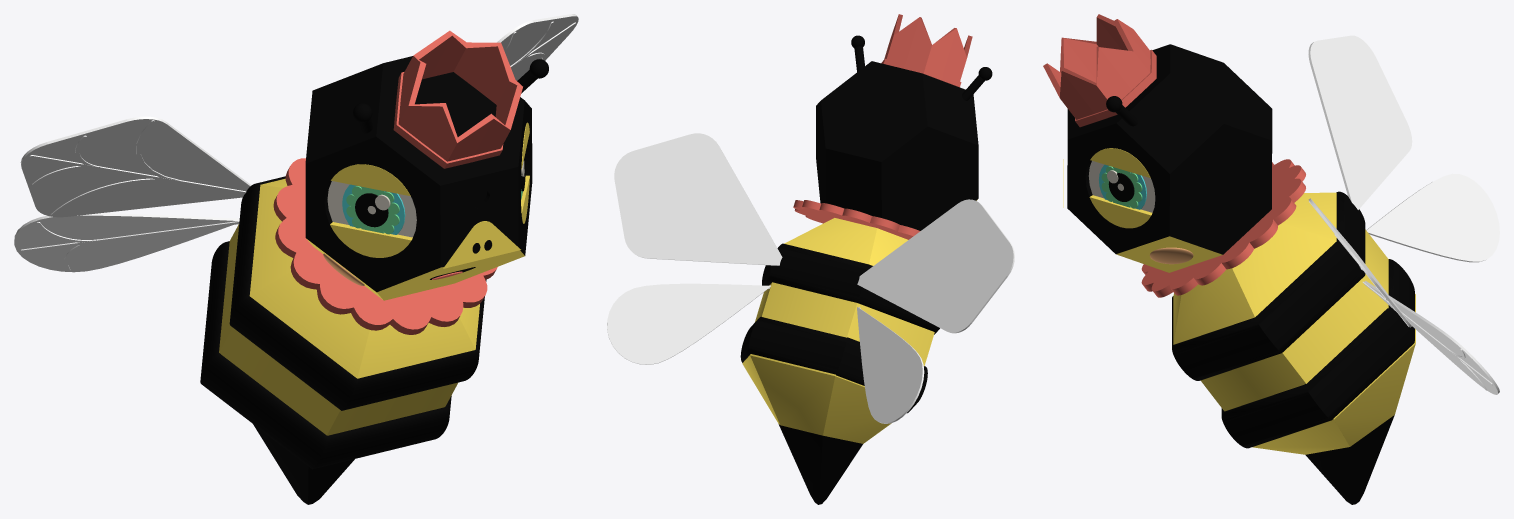
Rendered from main_bee_.gltf.
3 views of the same model, side by side, from view 1: azimuth 30°, elevation 25°; view 2: azimuth 150°, elevation 25°; view 3: azimuth 270°, elevation 25° (orthographic). The views are drawn at different scales.
Parts seen in each view (by area): view 1: Hedra001, Spindle001, Shape032, Line44386, Line44386.001, Star002, Star001, Shape034, Shape010, Shape026, Shape019, Shape036 (+5 smaller); view 2: Hedra001, Spindle001, Shape026, Shape032, Shape028, Shape034, Line44386.001, Line44386, Star002, Star001; view 3: Hedra001, Spindle001, Shape032, Line44386, Line44386.001, Shape034, Star002, Star001, Shape002, Shape028, Shape026, Shape003 (+2 smaller).
Boxes of the visible parts, x1,y1,x2,y2 form: Hedra001: (305, 56, 532, 300); Spindle001: (219, 178, 479, 504); Shape032: (20, 116, 251, 217); Line44386: (229, 176, 486, 410); Line44386.001: (200, 241, 451, 469); Star002: (393, 30, 522, 168); Star001: (273, 158, 497, 334); Shape034: (14, 213, 239, 272); Shape010: (330, 164, 412, 257); Shape026: (497, 14, 578, 80); Shape019: (443, 221, 520, 268); Shape036: (31, 120, 181, 216); Hedra001: (816, 61, 978, 230); Spindle001: (742, 218, 934, 504); Shape026: (614, 133, 782, 265); Shape032: (857, 199, 1014, 333); Shape028: (607, 283, 770, 364); Shape034: (857, 307, 924, 423); Line44386.001: (740, 316, 927, 413); Line44386: (762, 243, 939, 334); Star002: (881, 14, 972, 87); Star001: (793, 200, 920, 239); Hedra001: (1067, 44, 1272, 272); Spindle001: (1173, 192, 1415, 504); Shape032: (1308, 35, 1412, 209); Line44386: (1172, 191, 1365, 380); Line44386.001: (1221, 259, 1414, 448); Shape034: (1366, 173, 1499, 262); Star002: (1043, 14, 1156, 127); Star001: (1141, 159, 1305, 297); Shape002: (1089, 148, 1152, 228); Shape028: (1364, 281, 1499, 394); Shape026: (1308, 198, 1411, 327); Shape003: (1088, 161, 1155, 212).
Bounding box in the file's own units: 46.45 × 46.16 × 39.38.
